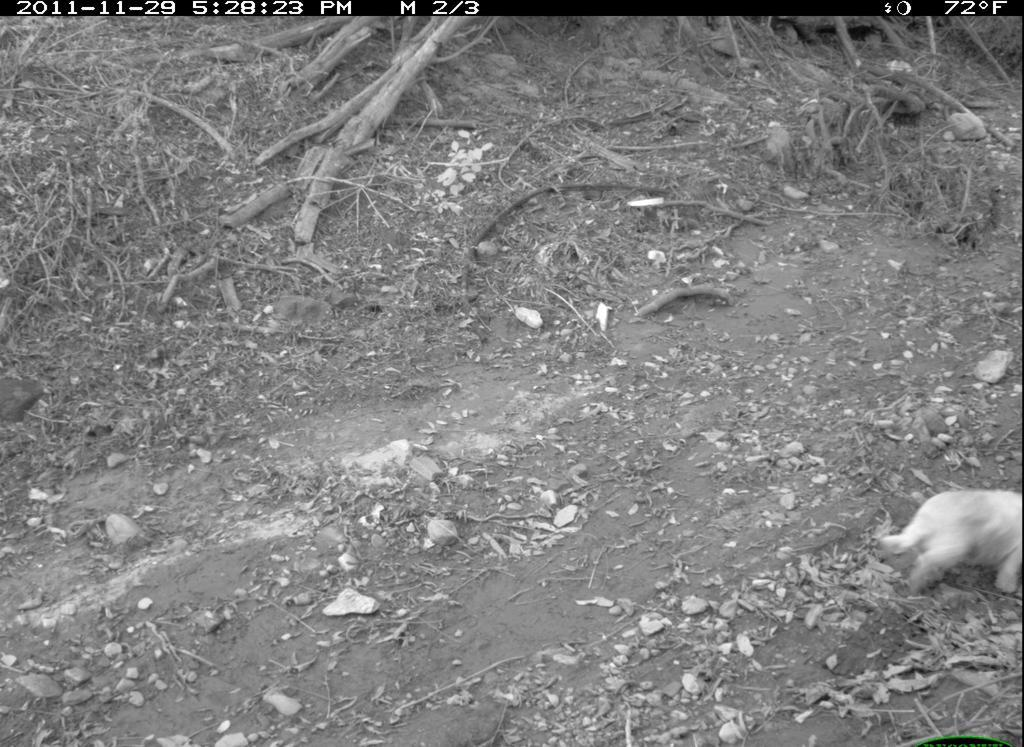dog: (866, 479, 1017, 626)
